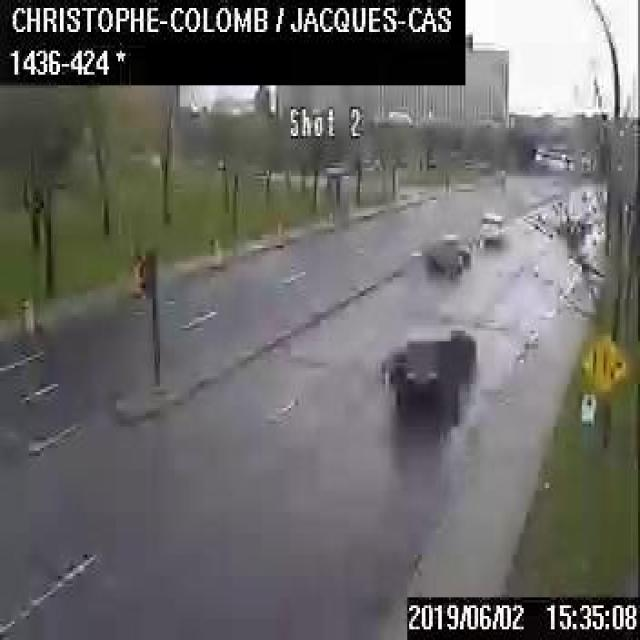construction: (19, 296, 32, 335), (130, 258, 142, 298), (211, 236, 218, 263), (276, 222, 284, 243), (325, 211, 333, 229)
vehicle: (388, 320, 477, 405), (424, 232, 471, 272), (476, 208, 504, 243)
